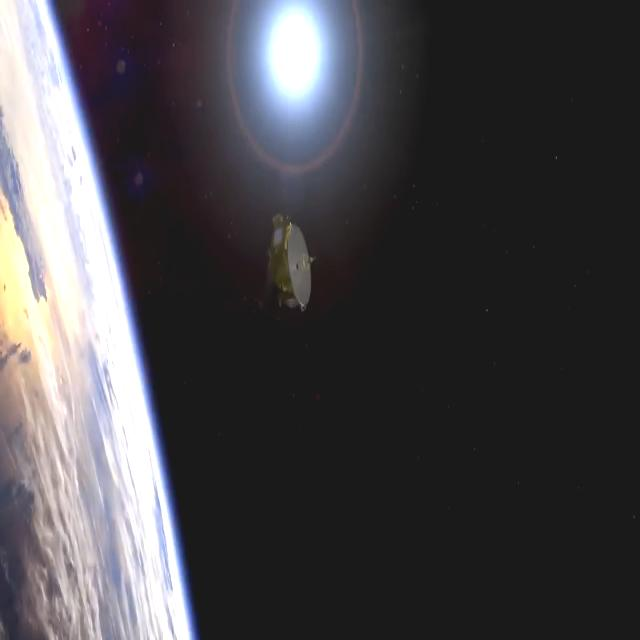satellite: (251, 172, 330, 352)
